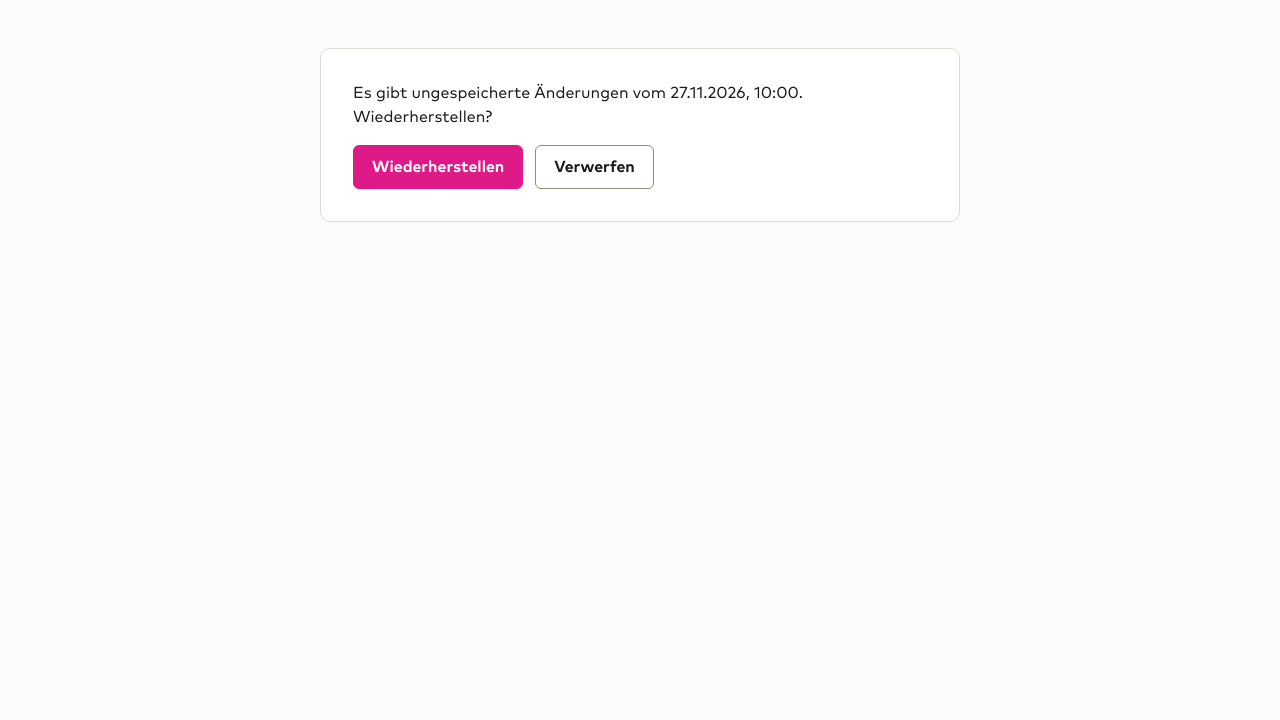
Test: SiteEditor: gleichzeitige Aenderungen › Entwurf auf aelterer Basis: Basis ist der Stand des Entwurfs, Hinweis beim Oeffnen
This screenshot has width=1280, height=720.
Later steps or results of the test are not shown.
What coordinates should you click on to do the following:
click the button "Wiederherstellen"
I would click on:
 (438, 167)
Its box is x1=353 y1=145 x2=523 y2=189.
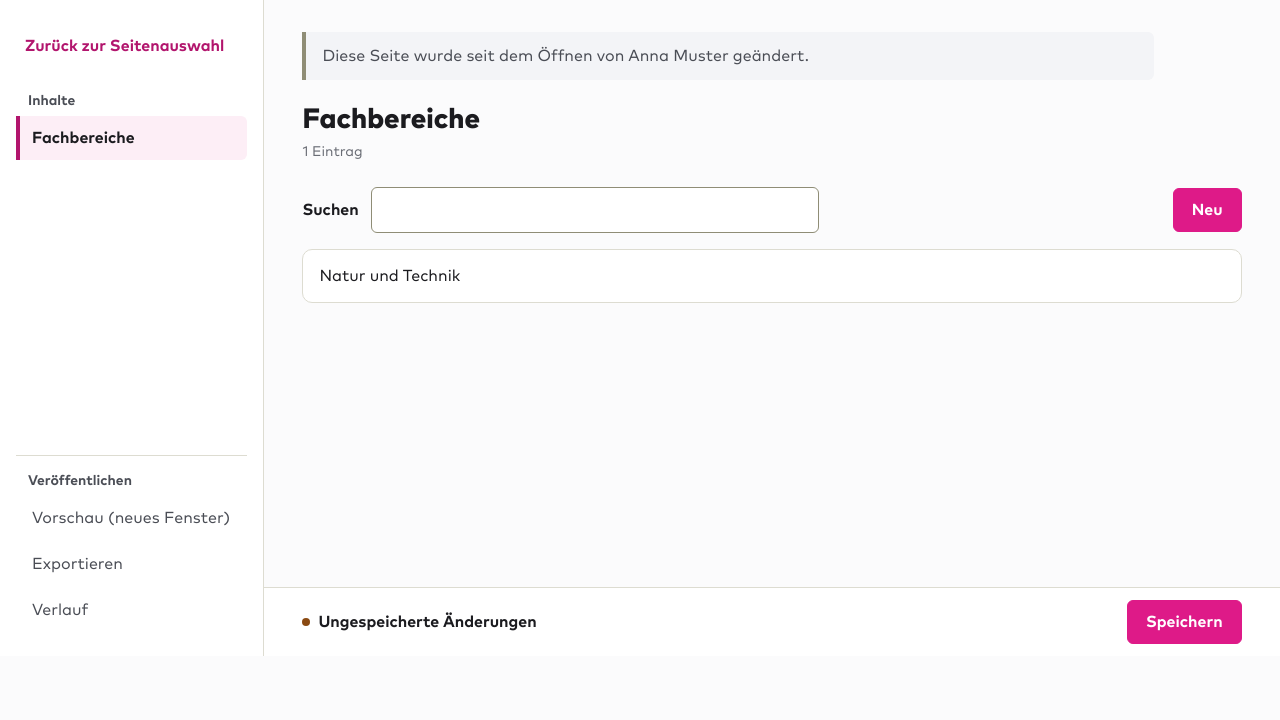
Check: the text "Diese Seite wurde seit dem Öffnen von Anna Muster geändert." is shown, box x1=302 y1=32 x2=1154 y2=80
